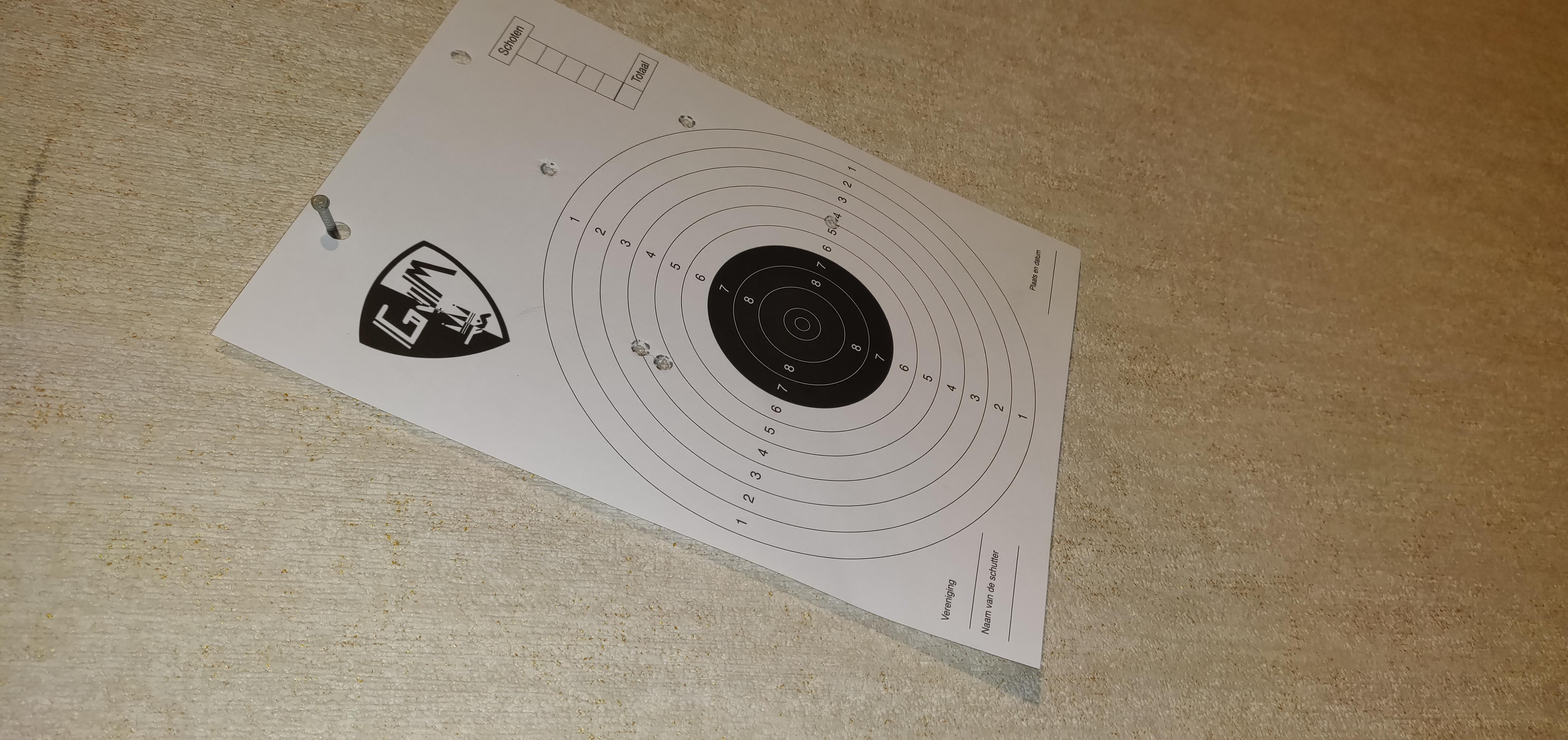hole: (812, 298, 847, 307), (1194, 254, 1226, 263), (783, 309, 815, 318), (1084, 388, 1116, 397), (1299, 319, 1326, 329)
